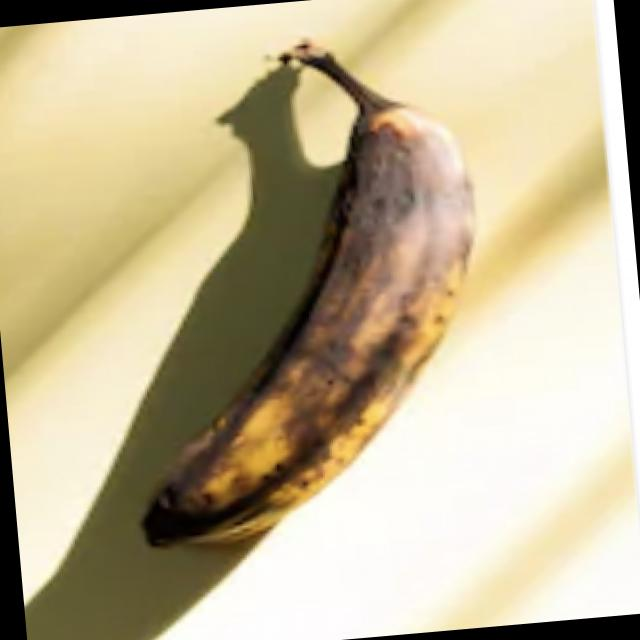rotten-banana: (85, 27, 503, 545)
